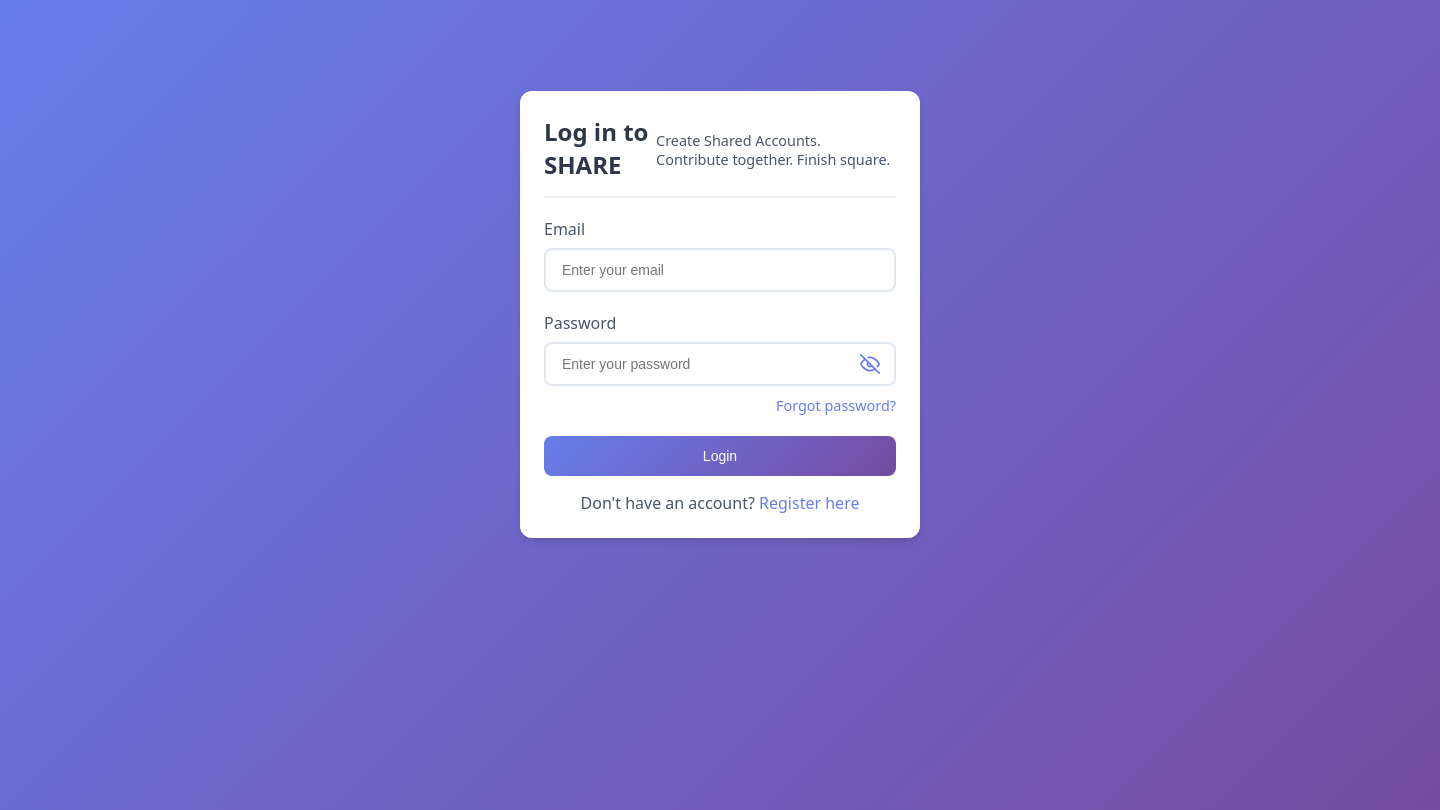
Login forgot password link › navigates to the forgot password page
Click the link "Forgot password?" at [836, 405], box 776,396 -> 896,414
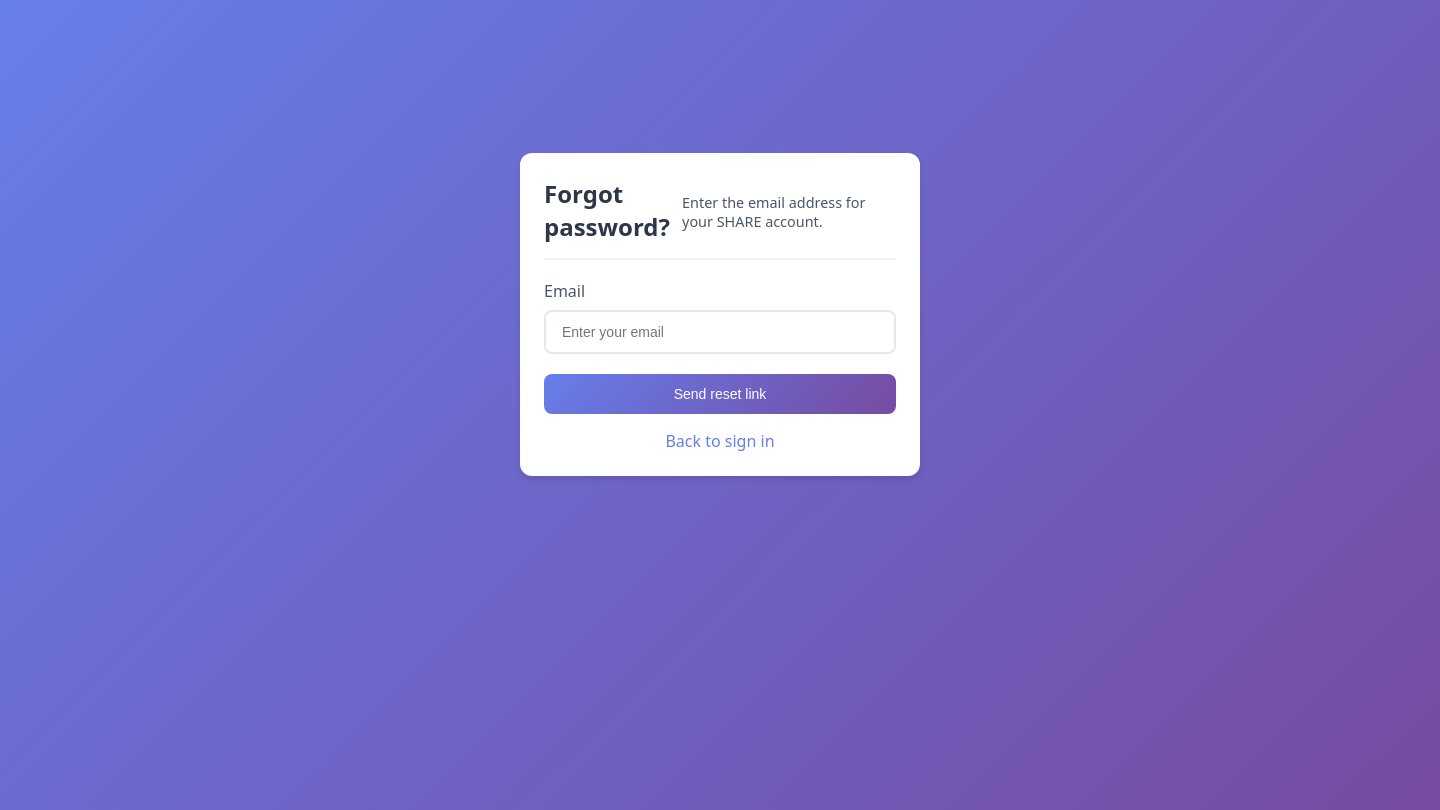
Result: the heading "Forgot password?" is shown at 544,176 -> 682,242
Result: the button "Send reset link" is shown at 544,374 -> 896,414
